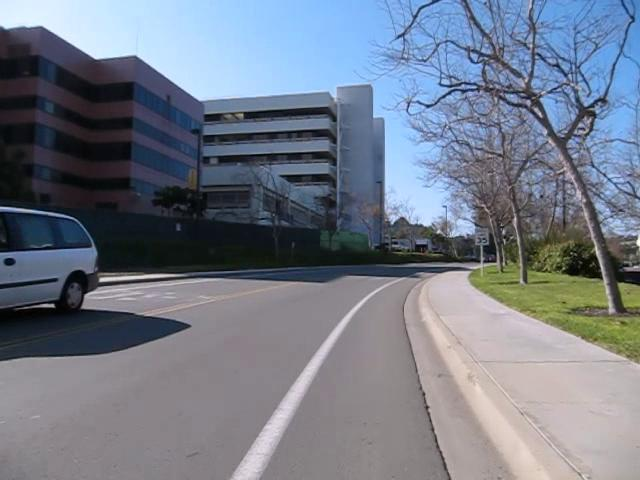speedLimit35: (473, 226, 489, 246)
